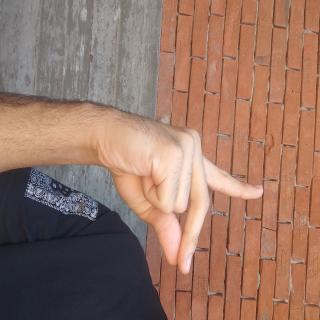TAA: (70, 64, 208, 320)
